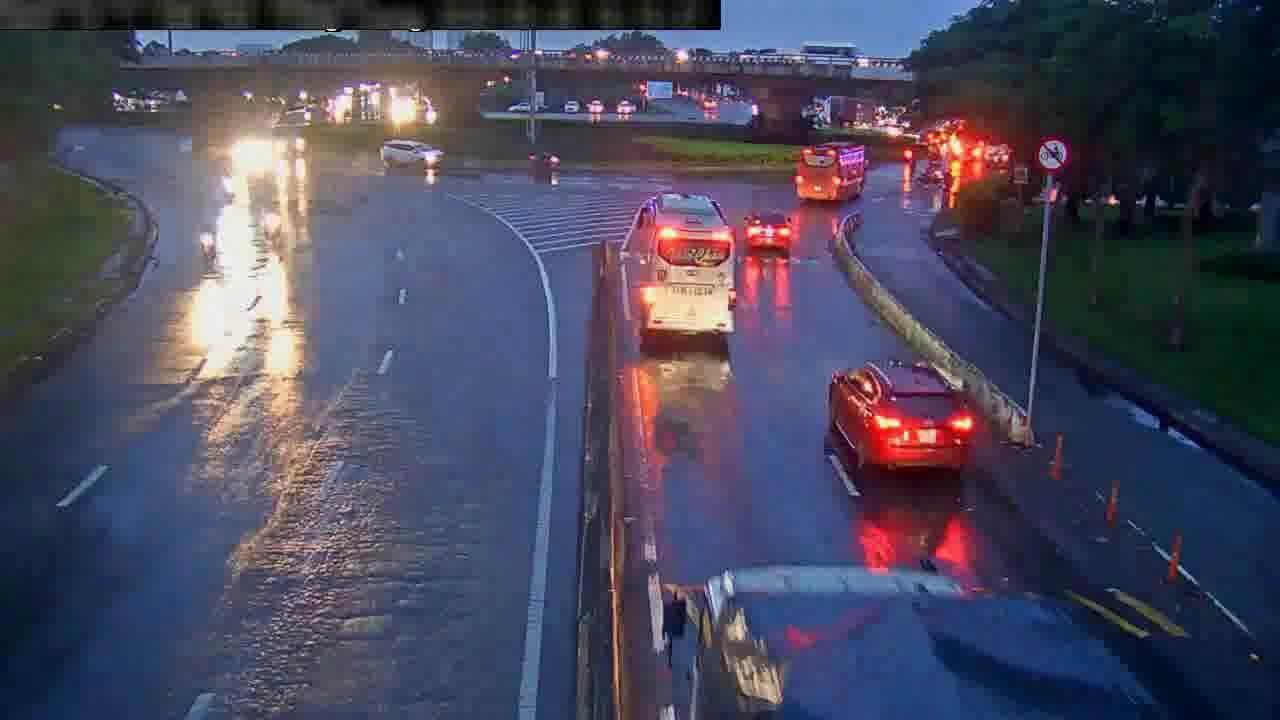14: (638, 191, 737, 348), (794, 140, 870, 205)
8: (655, 570, 1176, 720)
container: (829, 361, 968, 475), (745, 211, 794, 256), (379, 138, 442, 169)
